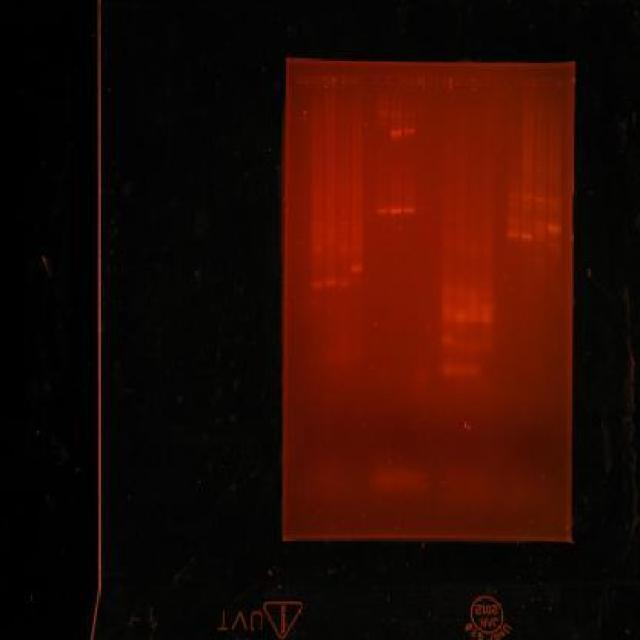B: (452, 308, 468, 322), (439, 332, 453, 348), (468, 363, 482, 379), (454, 363, 468, 379), (480, 310, 494, 326), (480, 338, 494, 354), (439, 308, 453, 322), (440, 363, 454, 377), (454, 286, 468, 300), (468, 309, 480, 325), (310, 278, 324, 291), (547, 221, 561, 234), (466, 338, 479, 352), (308, 242, 324, 253), (389, 128, 403, 140), (454, 336, 466, 350), (467, 298, 481, 310), (480, 288, 494, 300), (547, 238, 561, 250), (547, 196, 561, 207), (350, 264, 364, 274), (507, 198, 521, 208), (466, 288, 480, 298), (520, 233, 534, 242), (534, 194, 548, 203), (520, 201, 534, 210), (480, 301, 494, 310), (440, 288, 454, 297), (338, 278, 350, 288), (404, 126, 416, 136), (376, 207, 389, 216), (388, 207, 402, 215), (402, 206, 416, 214), (506, 230, 520, 238), (507, 215, 521, 223), (520, 192, 534, 200), (440, 300, 454, 308), (534, 226, 548, 234), (324, 278, 336, 287), (534, 233, 546, 242), (376, 120, 389, 128), (508, 190, 521, 198), (534, 219, 546, 227), (338, 245, 350, 252), (376, 108, 389, 114), (376, 112, 389, 116), (391, 112, 404, 116), (391, 110, 404, 113), (376, 101, 389, 104), (404, 112, 416, 115)
L: (294, 71, 568, 94)
Pc: (508, 78, 524, 92), (442, 76, 456, 92), (296, 76, 310, 90), (323, 76, 337, 90), (538, 77, 552, 91), (524, 77, 538, 91), (417, 76, 431, 90), (403, 77, 417, 91), (389, 77, 403, 91), (363, 76, 377, 90), (483, 77, 497, 91), (456, 77, 470, 91), (310, 74, 322, 90), (550, 79, 564, 92), (376, 77, 389, 91), (336, 76, 349, 90), (471, 77, 484, 91), (431, 77, 444, 91), (350, 76, 362, 90)
